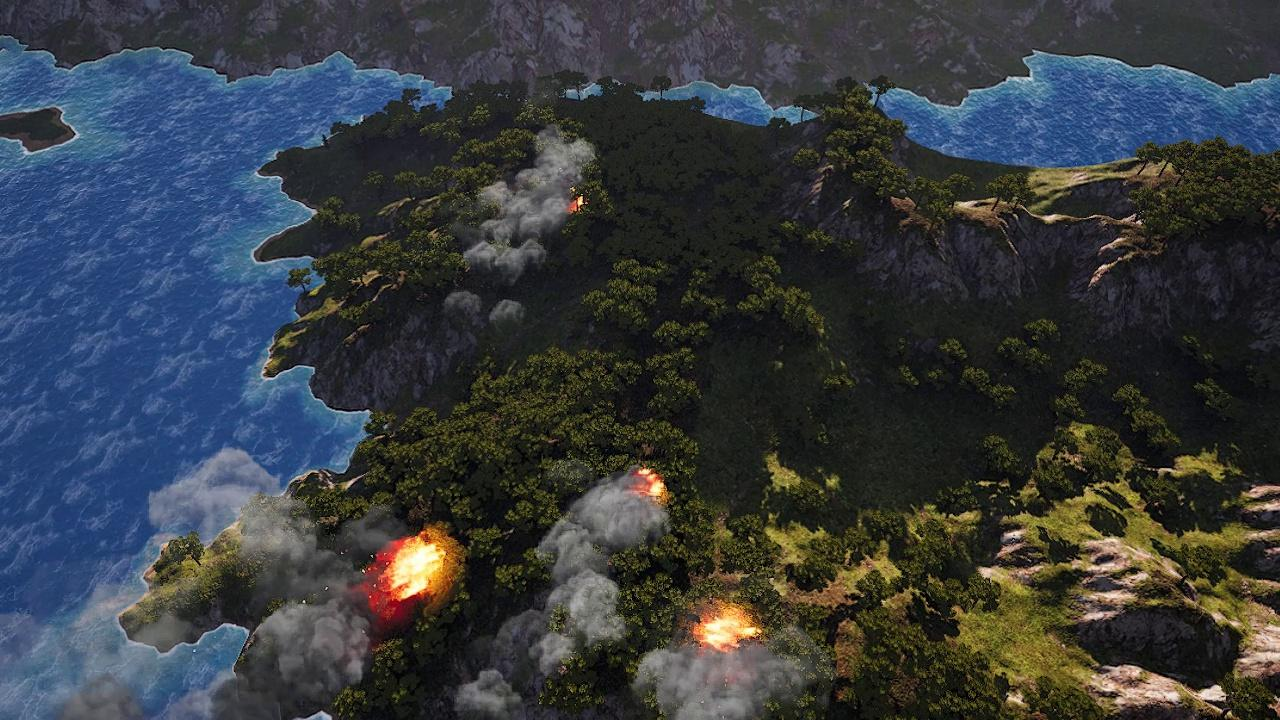fire: (387, 538, 446, 602), (697, 613, 755, 650), (631, 468, 666, 498), (568, 195, 586, 214)
smoke: (0, 447, 405, 713), (454, 472, 675, 720), (449, 123, 591, 280), (629, 644, 831, 718), (443, 295, 526, 328)
